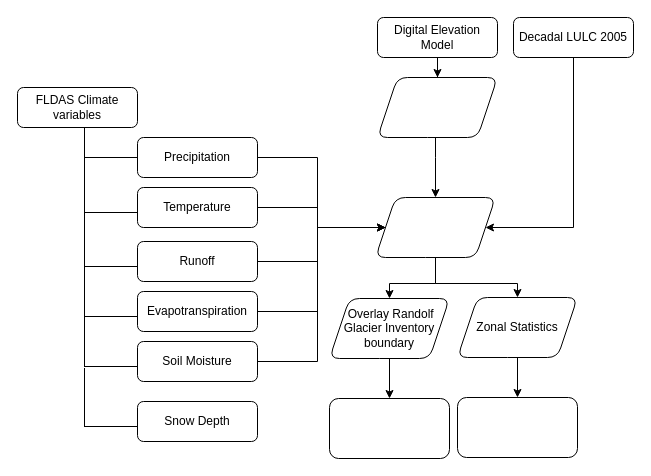
Image size: 651x476. Some labels were removed from this diagram. The shapes that lost their labels are listed below. From the top down, each one's centre as x and y in pixels, then its label:
pixel 437 107: Watershed Delineation for 9 NWH basins
pixel 435 227: Clipped according to NWH basins boundary
